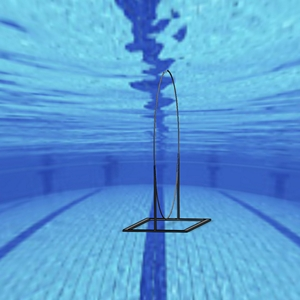circle: (121, 67, 211, 234)
